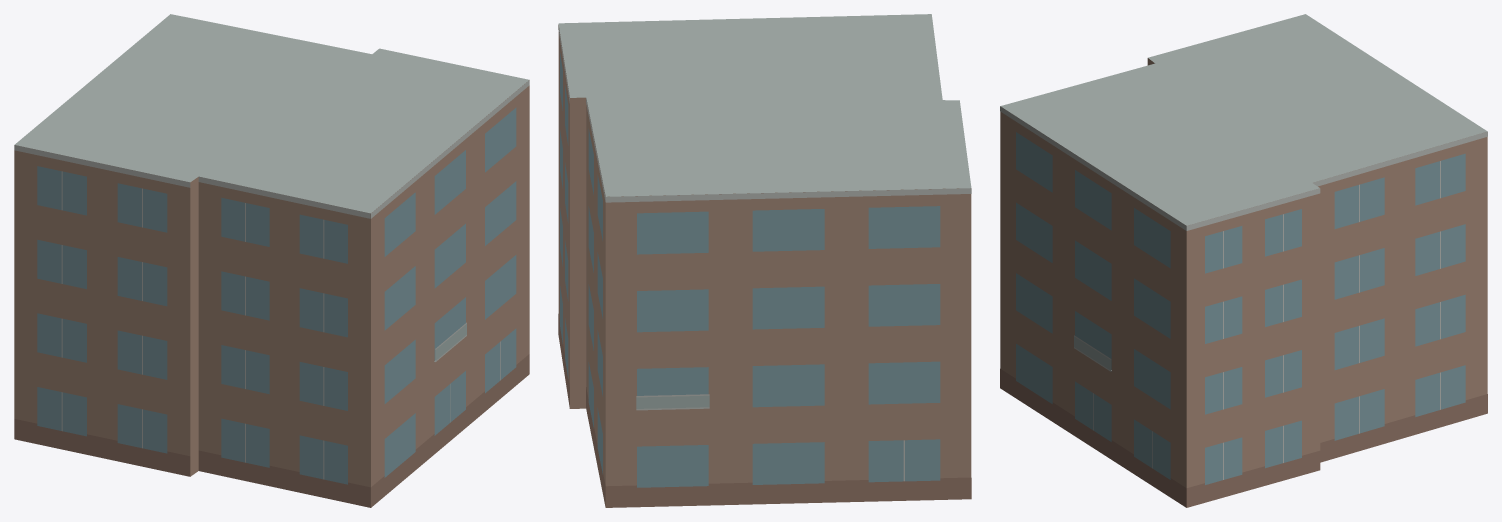
Rendered from survey-upis-32809280.glb.
The picture shows the model from 3 angles, left to right: view 1: azimuth 30°, elevation 25°; view 2: azimuth 150°, elevation 25°; view 3: azimuth 270°, elevation 25°; orthographic projection. The views are drawn at different scales.
Parts seen in each view (by area): view 1: survey-upis-32809280.tmp; view 2: survey-upis-32809280.tmp; view 3: survey-upis-32809280.tmp.
Boxes of the visible parts, x1=… form: survey-upis-32809280.tmp: x1=14, y1=14, x2=529, y2=507; survey-upis-32809280.tmp: x1=558, y1=14, x2=971, y2=507; survey-upis-32809280.tmp: x1=1000, y1=14, x2=1487, y2=507.
Bounding box in the file's own units: 21.1 × 13.1 × 20.53.
